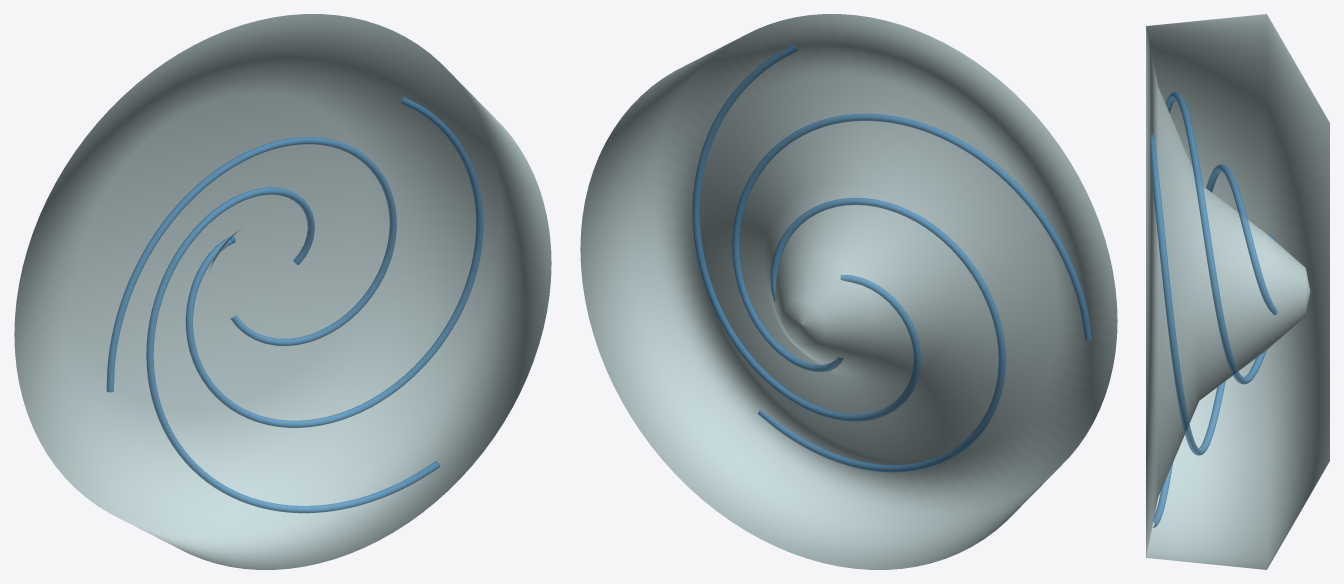
3 views of the same model, side by side, from view 1: azimuth 30°, elevation 25°; view 2: azimuth 150°, elevation 25°; view 3: azimuth 270°, elevation 25° (orthographic).
Parts seen in each view (by area): view 1: whirlpool-volume, spiral-tracer-2, spiral-tracer-1, spiral-tracer-0; view 2: whirlpool-volume, spiral-tracer-2, spiral-tracer-1, spiral-tracer-0; view 3: whirlpool-volume, spiral-tracer-1, spiral-tracer-2, spiral-tracer-0.
Boxes of the visible parts, bbox=[...] form: whirlpool-volume: bbox=[14, 14, 551, 569]; spiral-tracer-2: bbox=[106, 137, 396, 392]; spiral-tracer-1: bbox=[185, 96, 483, 427]; spiral-tracer-0: bbox=[146, 187, 439, 513]; whirlpool-volume: bbox=[580, 14, 1117, 569]; spiral-tracer-2: bbox=[732, 113, 1091, 372]; spiral-tracer-1: bbox=[692, 44, 920, 421]; spiral-tracer-0: bbox=[758, 197, 1005, 472]; whirlpool-volume: bbox=[1146, 14, 1329, 569]; spiral-tracer-1: bbox=[1151, 134, 1275, 455]; spiral-tracer-2: bbox=[1165, 92, 1266, 384]; spiral-tracer-0: bbox=[1152, 164, 1277, 527].
Bounding box in the file's own units: 2.3 × 2.3 × 0.76.
